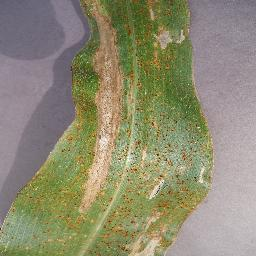Corn_Blight: (125, 0, 198, 158), (68, 0, 126, 159), (125, 158, 197, 256), (70, 159, 125, 256), (33, 132, 68, 255), (0, 178, 35, 255), (197, 98, 217, 198)
